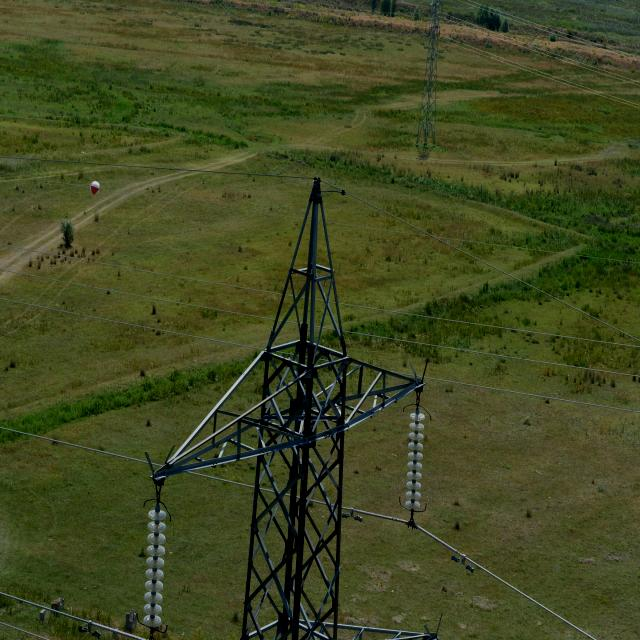voltage_line: (158, 177, 422, 628)
